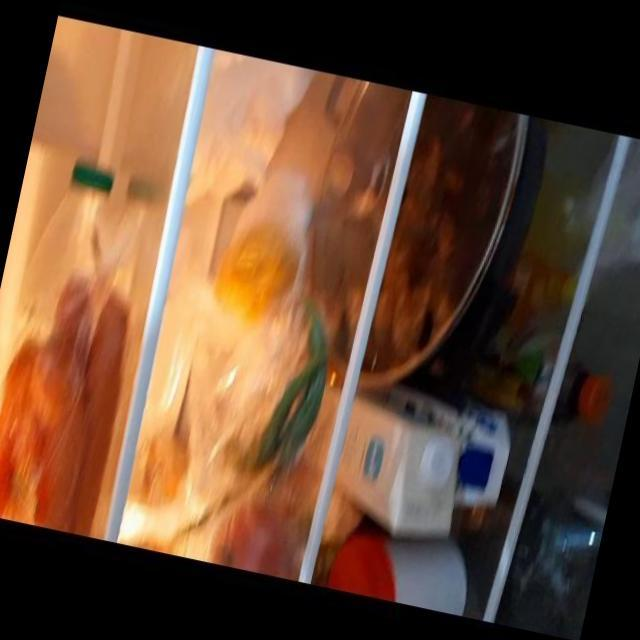Zanahoria: (0, 266, 133, 534)
